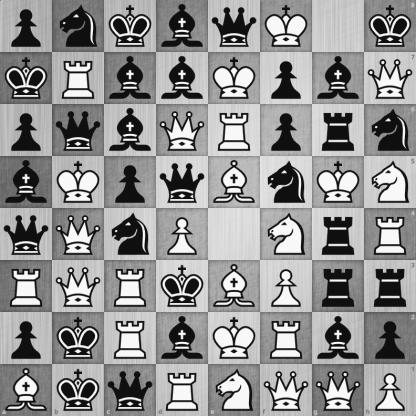B: (0, 364, 52, 416), (209, 157, 260, 208), (209, 261, 260, 312)
K: (53, 157, 104, 208), (209, 53, 260, 104), (209, 313, 260, 364), (261, 1, 312, 52), (313, 157, 364, 208)
N: (364, 156, 416, 209), (209, 364, 260, 416), (261, 209, 312, 260)
P: (364, 364, 416, 416), (157, 209, 208, 260), (261, 261, 312, 312)
Q: (260, 364, 312, 416), (312, 364, 364, 416), (364, 52, 416, 104), (53, 209, 104, 260), (53, 261, 104, 312), (157, 105, 208, 156)
R: (156, 364, 209, 416), (364, 209, 416, 260), (1, 261, 52, 312), (53, 53, 104, 104), (105, 261, 156, 312), (105, 313, 156, 364), (209, 105, 260, 156), (261, 313, 312, 364)
b: (1, 157, 52, 208), (105, 53, 156, 104), (105, 105, 156, 156), (157, 1, 208, 52), (157, 53, 208, 104), (157, 313, 208, 364), (313, 53, 364, 104), (313, 313, 364, 364)
board: (0, 0, 415, 415)
k: (52, 364, 104, 416), (364, 0, 416, 52), (1, 53, 52, 104), (53, 313, 104, 364), (105, 1, 156, 52), (157, 261, 208, 312)
n: (364, 104, 416, 156), (53, 1, 104, 52), (105, 209, 156, 260), (261, 157, 312, 208)
p: (364, 312, 416, 364), (1, 1, 52, 52), (1, 105, 52, 156), (1, 313, 52, 364), (105, 157, 156, 208), (261, 53, 312, 104), (261, 105, 312, 156)
q: (104, 364, 156, 416), (1, 209, 52, 260), (53, 105, 104, 156), (157, 157, 208, 208), (209, 1, 260, 52)
r: (364, 260, 416, 312), (313, 105, 364, 156), (313, 209, 364, 260), (313, 261, 364, 312)
